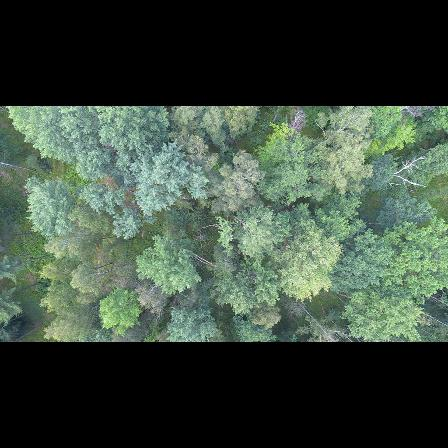Dead: (294, 296, 339, 342), (383, 154, 431, 195), (282, 108, 311, 136)
